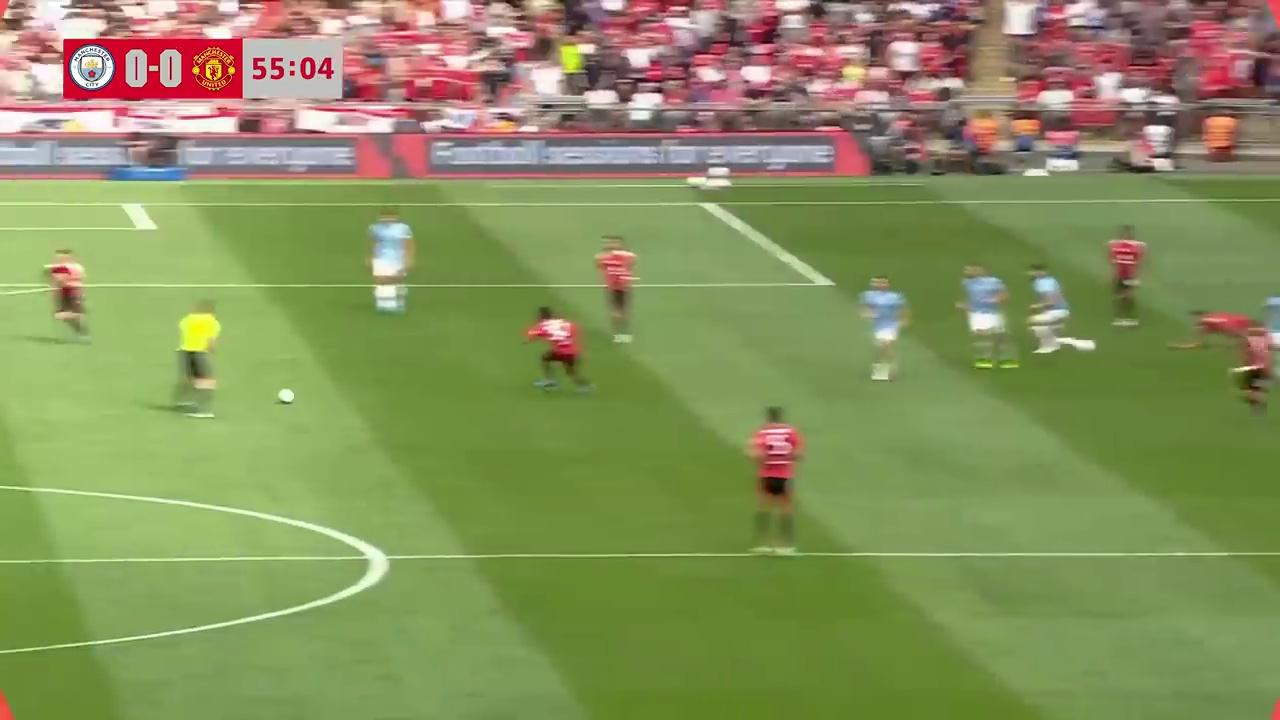ball: (276, 385, 296, 404)
player: (743, 407, 805, 548), (957, 264, 1018, 376), (520, 306, 593, 393), (858, 275, 911, 383), (367, 213, 415, 314), (595, 238, 638, 344), (1227, 318, 1275, 411), (1106, 226, 1148, 325), (1025, 264, 1069, 355), (43, 251, 90, 332), (1169, 307, 1253, 348), (1266, 280, 1280, 350), (0, 670, 14, 720)
referee: (167, 302, 219, 418)
